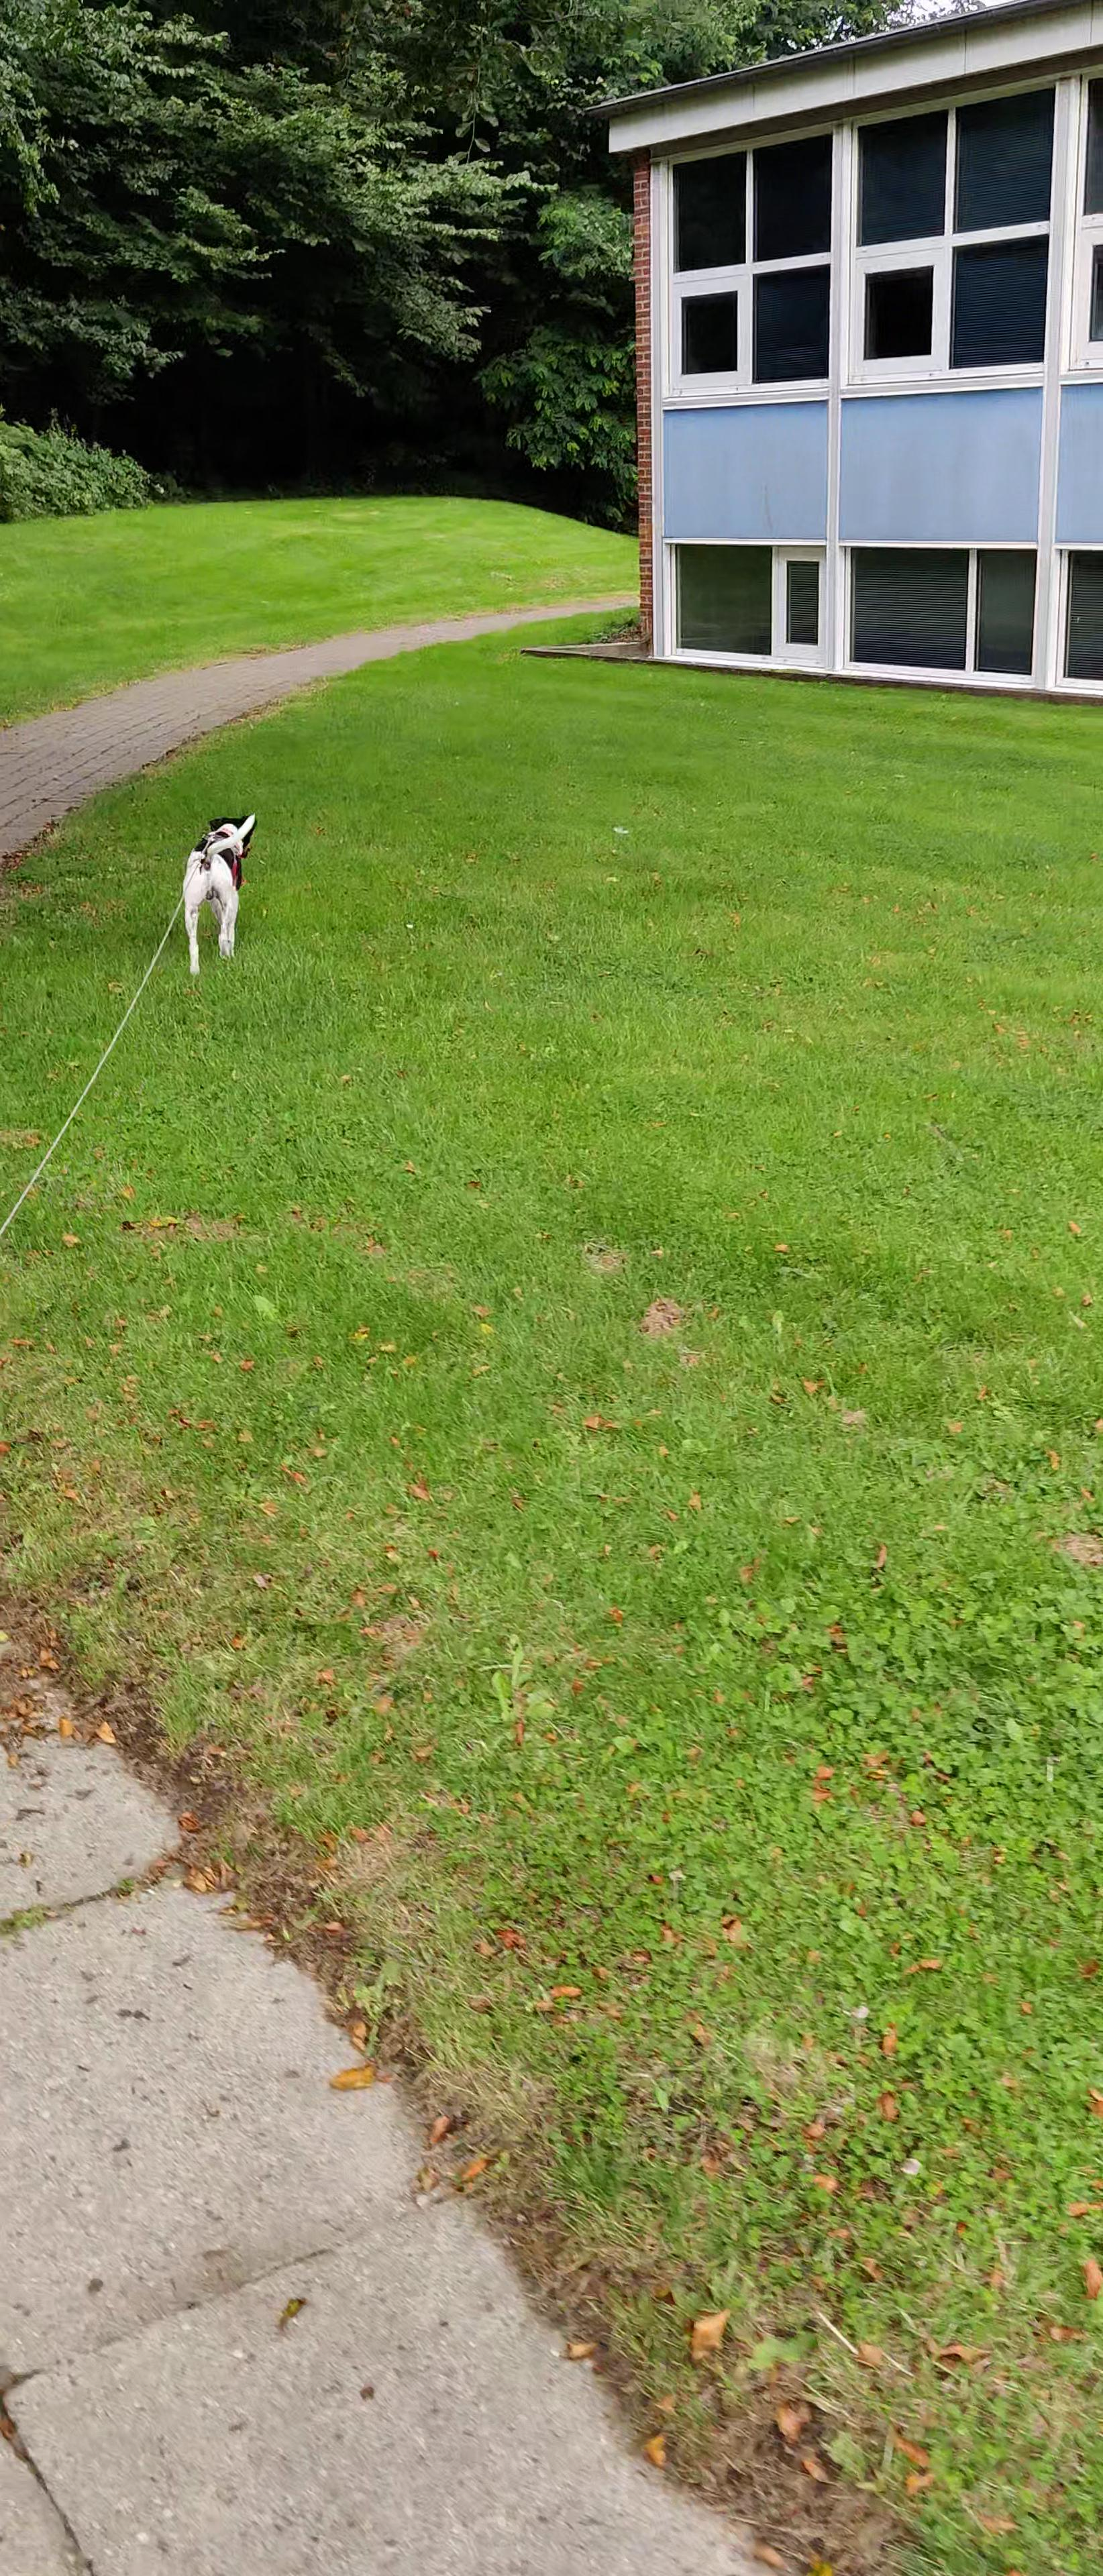Dog: (168, 805, 270, 984)
